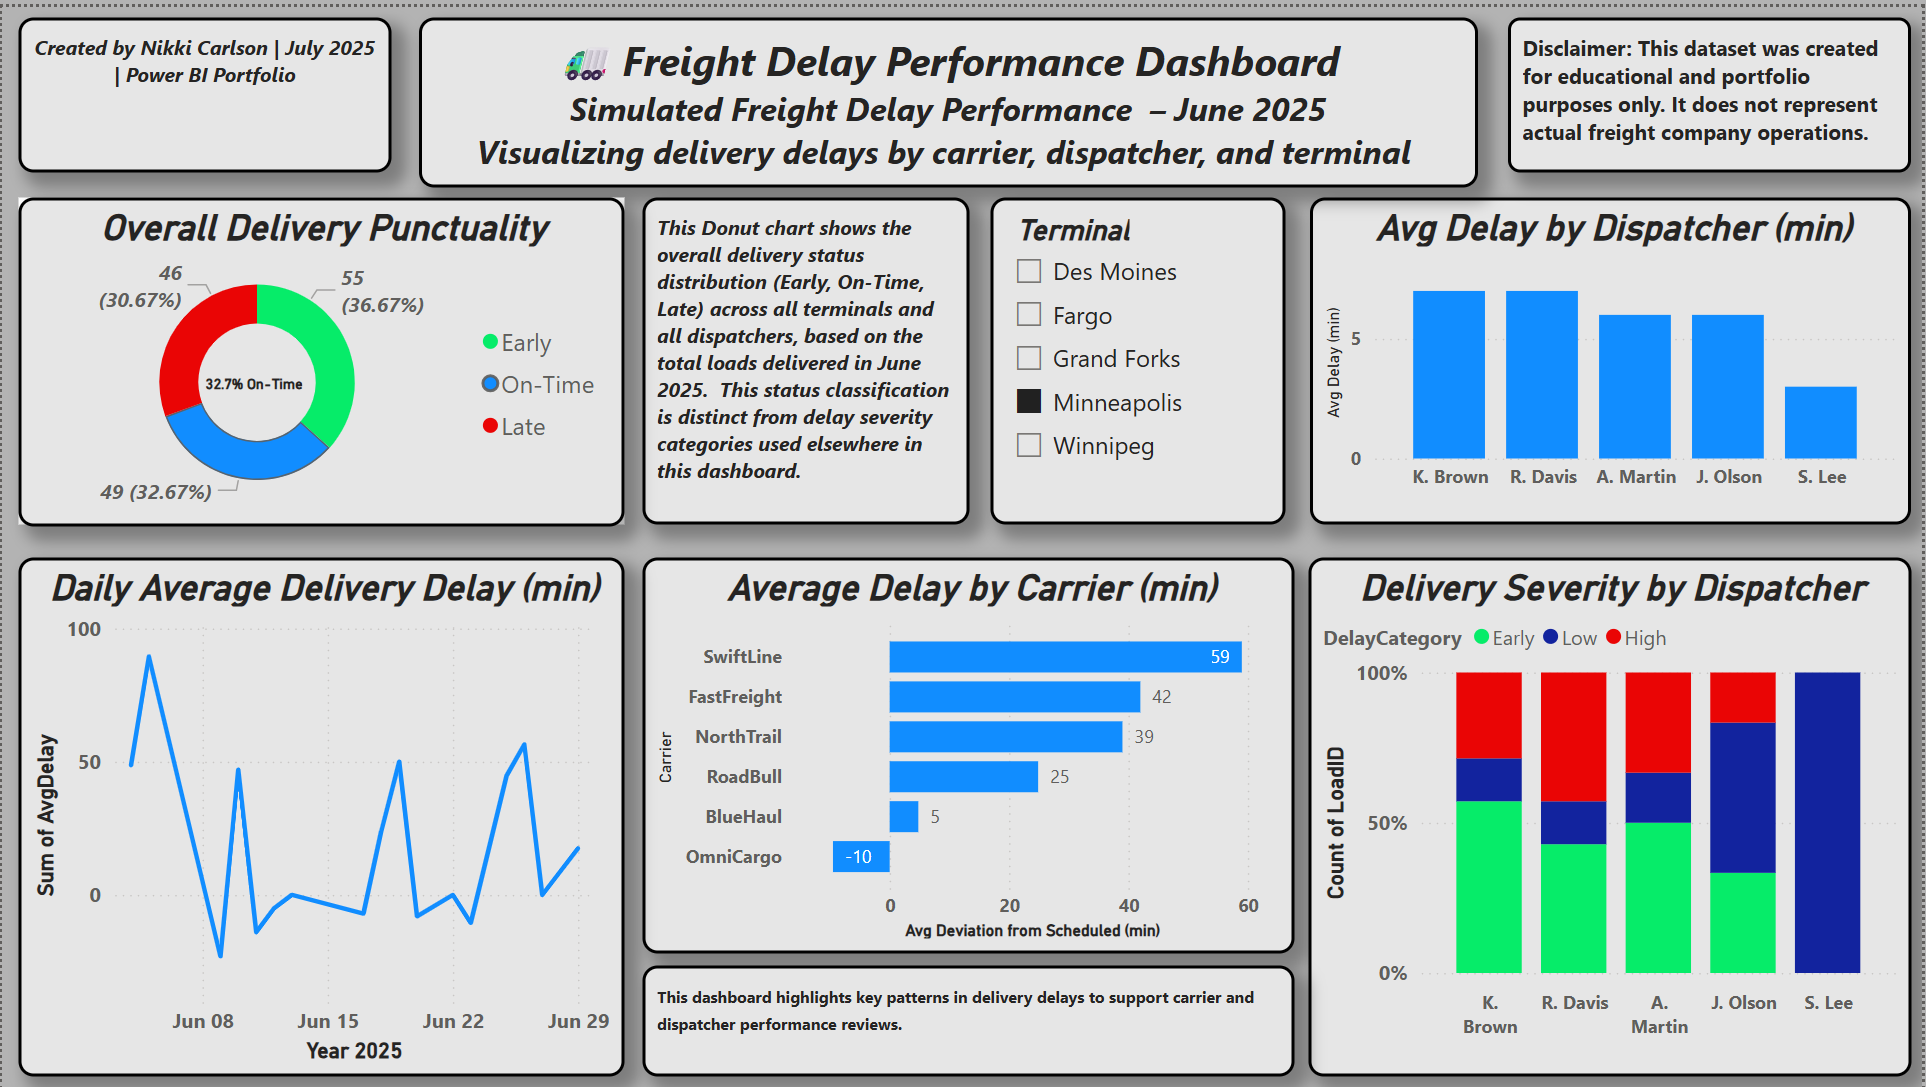

What the dashboard file says about the page in this screenshot:
{"tool":"powerbi","page":{"name":"Page 1","canvas":[1280,720],"ordinal":0},"visuals":[{"type":"clusteredBarChart","title":"Average Delay by Carrier (min)","fields":{"Y":["Sum(carrier_delay_summary_dax.AvgDelay)"],"Category":["carrier_delay_summary_dax.Carrier"]},"box":[427.1,366.7,434.6,264.4],"z":0},{"type":"clusteredColumnChart","title":"Avg Delay by Dispatcher (min)","fields":{"Category":["dispatcher_delay_summary_dax.Dispatcher"],"Y":["Sum(dispatcher_delay_summary_dax.TotalLoads)"]},"box":[871.7,126.6,401.6,218.9],"z":1000},{"type":"lineChart","title":"Daily Average Delivery Delay (min)","fields":{"Category":["daily_delay_trend_dax.DeliveryDate.Variation.Date Hierarchy.Year","daily_delay_trend_dax.DeliveryDate.Variation.Date Hierarchy.Quarter","daily_delay_trend_dax.DeliveryDate.Variation.Date Hierarchy.Month","daily_delay_trend_dax.DeliveryDate.Variation.Date Hierarchy.Day"],"Y":["Sum(daily_delay_trend_dax.AvgDelay)"]},"box":[10.6,366.7,404.1,346.1],"z":2000},{"type":"textbox","box":[278.1,6.9,705.9,112.9],"z":3000},{"type":"hundredPercentStackedColumnChart","title":"Delivery Severity by Dispatcher","fields":{"Category":["freight_delay_data.Dispatcher"],"Y":["CountNonNull(freight_delay_data.LoadID)"],"Series":["DelayCategoryLookup.DelayCategory"]},"box":[871.1,366.7,402.2,346.1],"z":4000},{"type":"textbox","box":[427.1,126.6,217.6,218.9],"z":5000},{"type":"textbox","box":[1003.9,6.9,269.4,102.9],"z":6000},{"type":"slicer","fields":{"Values":["TerminalTable.Terminal"]},"box":[659.1,126.6,197,218.9],"z":7000},{"type":"donutChart","title":"Overall Delivery Punctuality","fields":{"Category":["on_time_breakdown.Status"],"Y":["Sum(on_time_breakdown.TotalLoads)"]},"box":[10.6,126.6,404.1,218.9],"z":7500,"group":"g1"},{"type":"cardVisual","fields":{"Data":["on_time_breakdown.OnTimeLabel"]},"box":[95,215.4,146.5,61.7],"z":7750,"group":"g1"},{"type":"textbox","box":[10.6,6.9,249.4,102.9],"z":8000},{"type":"group","id":"g1","title":"Group 1","box":[10.6,126.6,404.1,218.9],"z":9000},{"type":"textbox","box":[427.1,638.5,434.6,74.2],"z":10000}]}

Visuals, with their boxes in screenshot pixels (x1, y1, x2, y2), scaled from the page's 1280x720 canvas onto the 1926x1087 screenshot:
"Average Delay by Carrier (min)" clusteredBarChart: locate(643, 554, 1297, 953)
"Avg Delay by Dispatcher (min)" clusteredColumnChart: locate(1312, 191, 1916, 522)
"Daily Average Delivery Delay (min)" lineChart: locate(16, 554, 624, 1076)
textbox: locate(418, 10, 1481, 181)
"Delivery Severity by Dispatcher" hundredPercentStackedColumnChart: locate(1311, 554, 1916, 1076)
textbox: locate(643, 191, 970, 522)
textbox: locate(1511, 10, 1916, 166)
slicer - TerminalTable.Terminal: locate(992, 191, 1288, 522)
"Overall Delivery Punctuality" donutChart: locate(16, 191, 624, 522)
cardVisual - on_time_breakdown.OnTimeLabel: locate(143, 325, 363, 418)
textbox: locate(16, 10, 391, 166)
"Group 1" group: locate(16, 191, 624, 522)
textbox: locate(643, 964, 1297, 1076)
